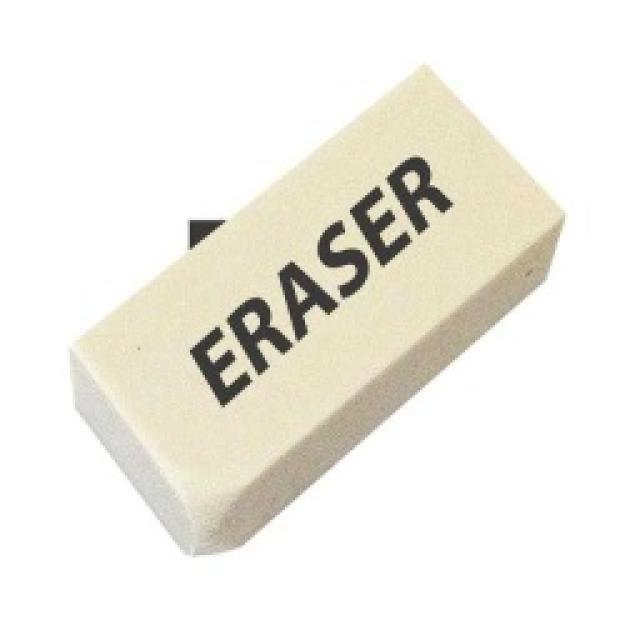Silgi: (68, 58, 571, 551)
